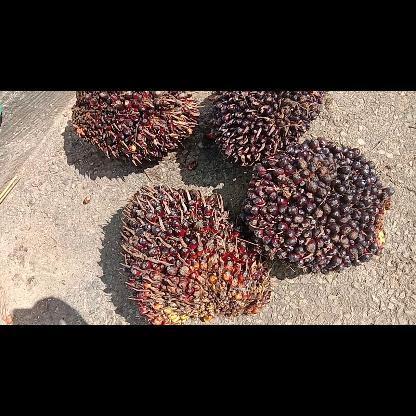TBS mentah: (116, 182, 274, 324), (240, 138, 393, 274), (70, 91, 204, 165), (202, 93, 322, 167)
